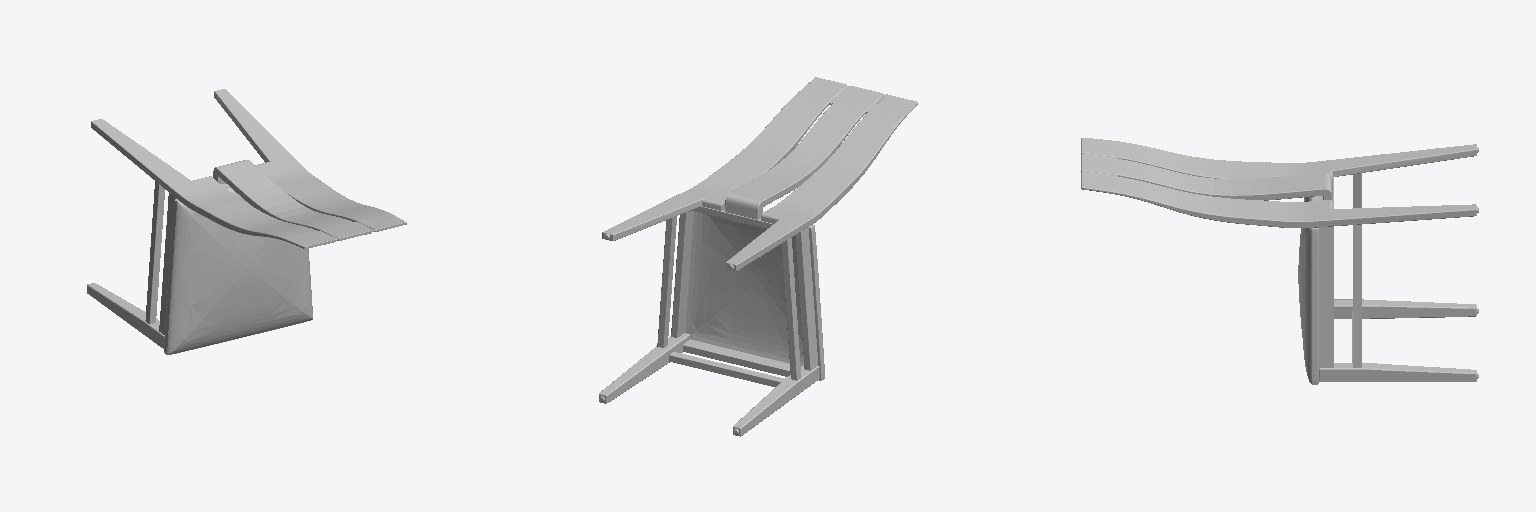
The model's file is Chair 13.obj.
The picture shows the model from 3 angles: view 1: azimuth 30°, elevation 25°; view 2: azimuth 150°, elevation 25°; view 3: azimuth 270°, elevation 25°; orthographic projection.
Visible parts, largest first — view 1: Wood_01, Seat, Wood_02; view 2: Wood_01, Seat, Wood_02, Wood_03; view 3: Wood_01, Wood_02, Seat.
Boxes of the visible parts, box(x1,y1,x2,y2) form: Wood_01: box(87, 89, 406, 348); Seat: box(164, 186, 312, 354); Wood_02: box(145, 181, 175, 334); Wood_01: box(599, 77, 917, 436); Seat: box(685, 212, 824, 380); Wood_02: box(657, 211, 817, 380); Wood_03: box(669, 86, 884, 386); Wood_01: box(1081, 138, 1476, 381); Wood_02: box(1319, 173, 1361, 367); Seat: box(1298, 196, 1318, 384).
Size of the model in its own units: 17.23 by 21.19 by 40.58.